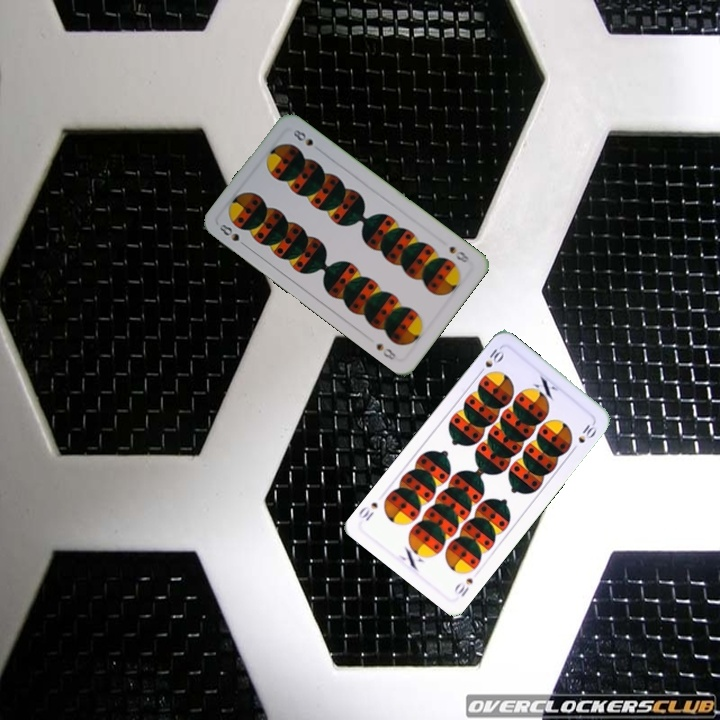S10: (474, 344, 507, 378), (450, 574, 476, 599)
S8: (215, 220, 250, 250), (445, 242, 472, 265)
